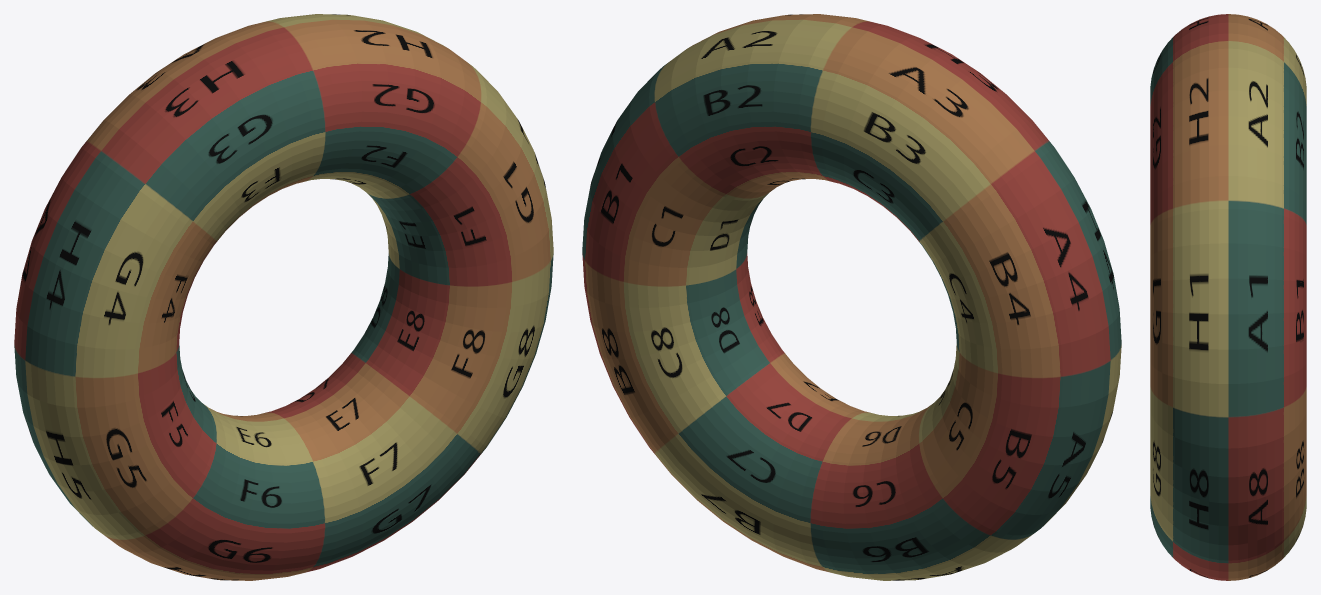
File: texture_torus_R18_r24.glb
3 renders of one model, left to right at view 1: azimuth 30°, elevation 25°; view 2: azimuth 150°, elevation 25°; view 3: azimuth 270°, elevation 25°, orthographic. The views are drawn at different scales.
Parts seen in each view (by area): view 1: world; view 2: world; view 3: world.
Boxes of the visible parts, bbox=[...] form: world: bbox=[14, 14, 553, 580]; world: bbox=[582, 14, 1121, 580]; world: bbox=[1150, 14, 1306, 580].
Bounding box in the file's own units: 30.4 × 30.34 × 8.38.
1 material, 1 textured.
